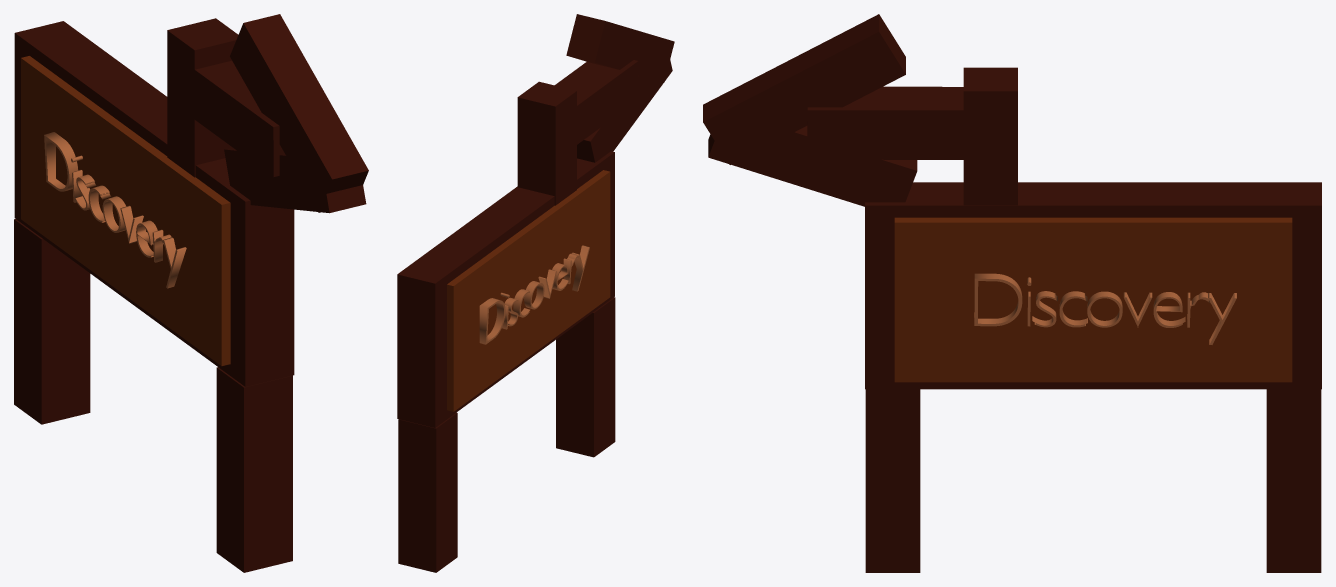
Rendered from Discovery Sign.fbx.
The picture shows the model from 3 angles, left to right: view 1: azimuth 30°, elevation 25°; view 2: azimuth 150°, elevation 25°; view 3: azimuth 270°, elevation 25°; orthographic projection. The views are drawn at different scales.
Parts seen in each view (by area): view 1: Cube.005, Text; view 2: Cube.005, Text; view 3: Cube.005, Text.001.
Part boxes in pixels (x1=…): Cube.005: x1=14, y1=14, x2=368, y2=572; Text: x1=44, y1=132, x2=186, y2=288; Cube.005: x1=397, y1=14, x2=674, y2=572; Text: x1=479, y1=245, x2=589, y2=344; Cube.005: x1=703, y1=14, x2=1321, y2=572; Text.001: x1=974, y1=273, x2=1236, y2=344.
Bounding box in the file's own units: 100 × 587 × 611.
